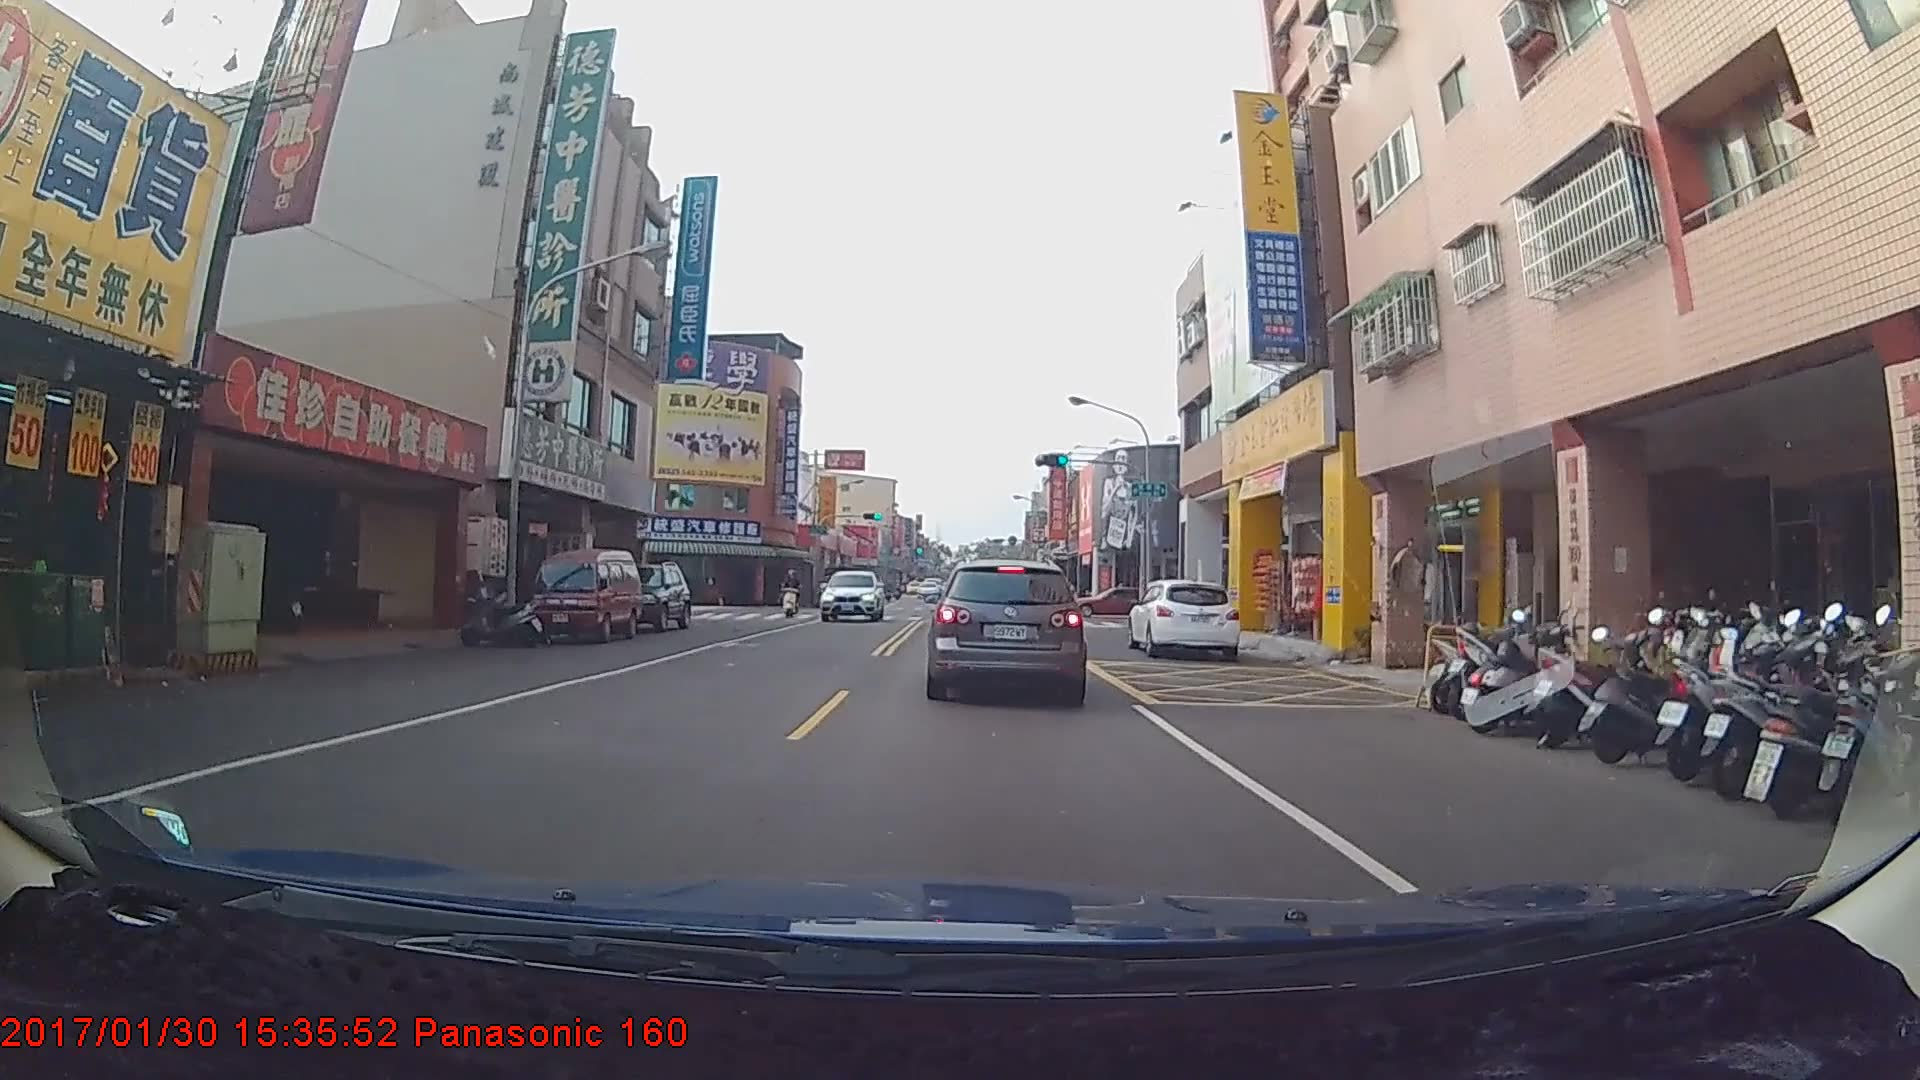rider: (779, 571, 808, 623)
vehicle: (928, 556, 1086, 702), (528, 551, 642, 646), (1126, 577, 1239, 661), (603, 561, 692, 634), (818, 566, 882, 621), (1064, 586, 1165, 616), (915, 578, 939, 598)
